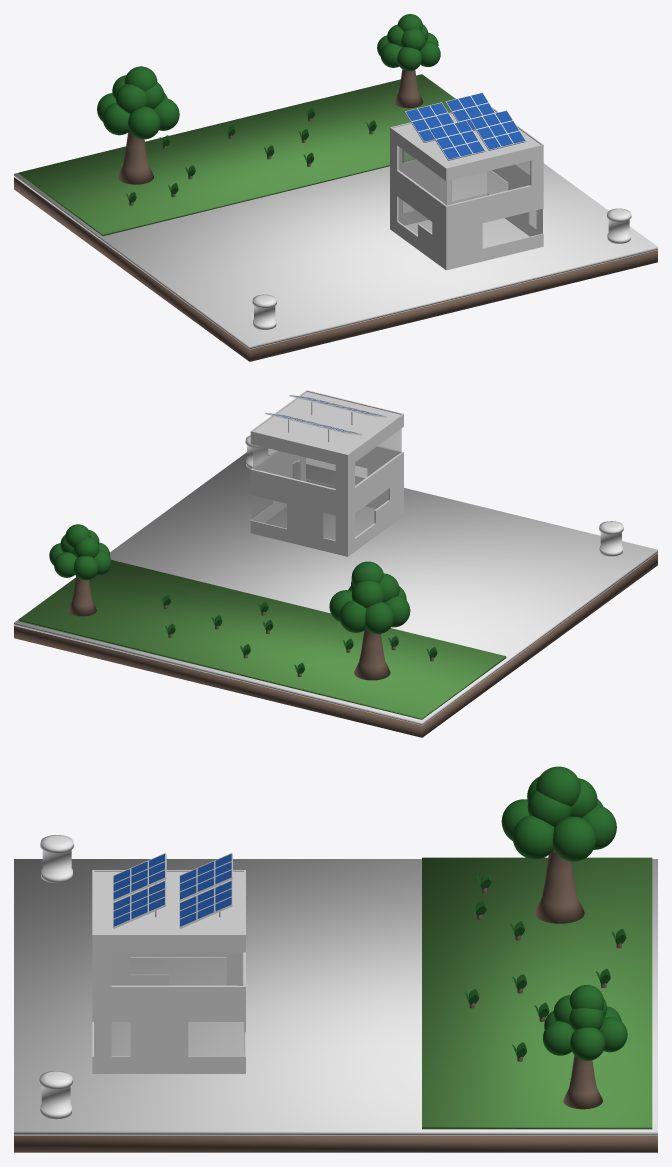
File: house1.glb
The picture shows the model from 3 angles, top to bottom: view 1: azimuth 30°, elevation 25°; view 2: azimuth 150°, elevation 25°; view 3: azimuth 270°, elevation 25°; orthographic projection. The views are drawn at different scales.
Parts seen in each view (by area): view 1: Floor, Gram_Floor, Building, Tree, Solar_Painel, Cylinder.015, Gram, Bin, Bin.001; view 2: Floor, Gram_Floor, Building, Tree, Cylinder.015, Gram, Solar_Painel, Bin.001; view 3: Floor, Gram_Floor, Building, Tree, Cylinder.015, Solar_Painel, Bin.001, Bin, Gram.
Part boxes in pixels (left/top/right/bottom): Floor: left=14, top=75, right=657, bottom=361; Gram_Floor: left=18, top=74, right=455, bottom=235; Building: left=390, top=107, right=543, bottom=270; Tree: left=97, top=66, right=179, bottom=184; Solar_Painel: left=404, top=92, right=525, bottom=160; Cylinder.015: left=377, top=14, right=440, bottom=108; Gram: left=126, top=107, right=376, bottom=205; Bin: left=606, top=208, right=631, bottom=243; Bin.001: left=252, top=294, right=276, bottom=329; Floor: left=14, top=452, right=657, bottom=737; Gram_Floor: left=18, top=560, right=506, bottom=719; Building: left=250, top=390, right=403, bottom=556; Tree: left=329, top=561, right=410, bottom=680; Cylinder.015: left=49, top=524, right=111, bottom=616; Gram: left=160, top=594, right=437, bottom=661; Solar_Painel: left=265, top=395, right=386, bottom=442; Bin.001: left=599, top=521, right=623, bottom=556; Floor: left=14, top=859, right=657, bottom=1152; Gram_Floor: left=422, top=857, right=652, bottom=1129; Building: left=92, top=870, right=245, bottom=1073; Tree: left=501, top=766, right=616, bottom=923; Cylinder.015: left=543, top=985, right=627, bottom=1109; Solar_Painel: left=113, top=853, right=232, bottom=928; Bin.001: left=40, top=835, right=73, bottom=883; Bin: left=39, top=1071, right=72, bottom=1119; Gram: left=464, top=873, right=610, bottom=1061.
Size of what is drawn, in the model's own units: 2 by 0.6309 by 2.
